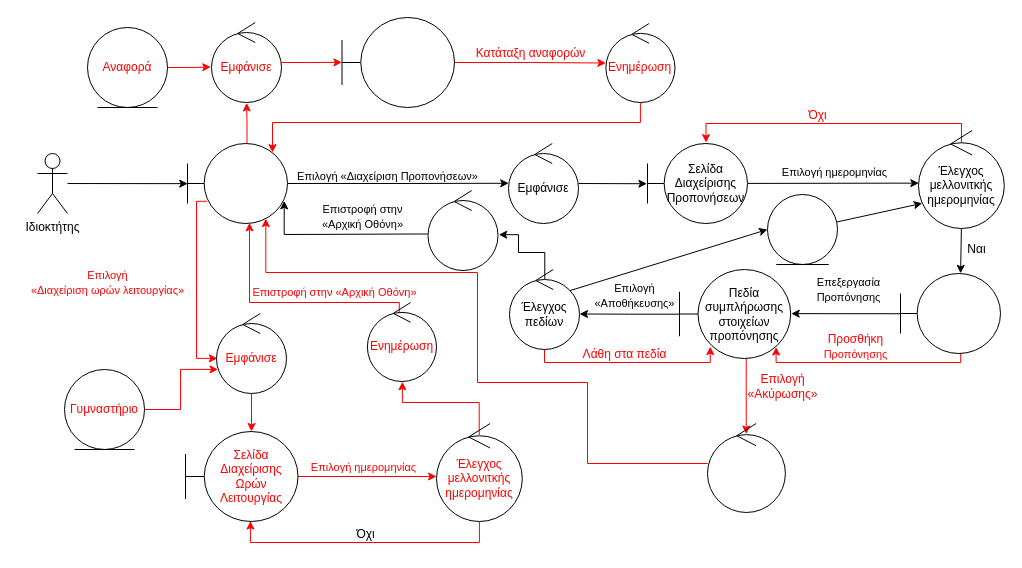
Some shapes in this 1022 by 568 pixel diagram are drawn without their labels. The shapes that lost their labels are listed below. From the top down, each one's centre as x and y in pixels, then its label:
At (397,62): "Σελίδα Αναφορών".
At (237,183): "Αρχική Οθόνη".
At (462,230): "Ενημέρωση Χρηστών".
At (802,229): "Προπόνση".
At (950,313): "Λίστα Προπονήσεων".
At (745,467): "Ενημέρωση συστήματος και χρηστών".
